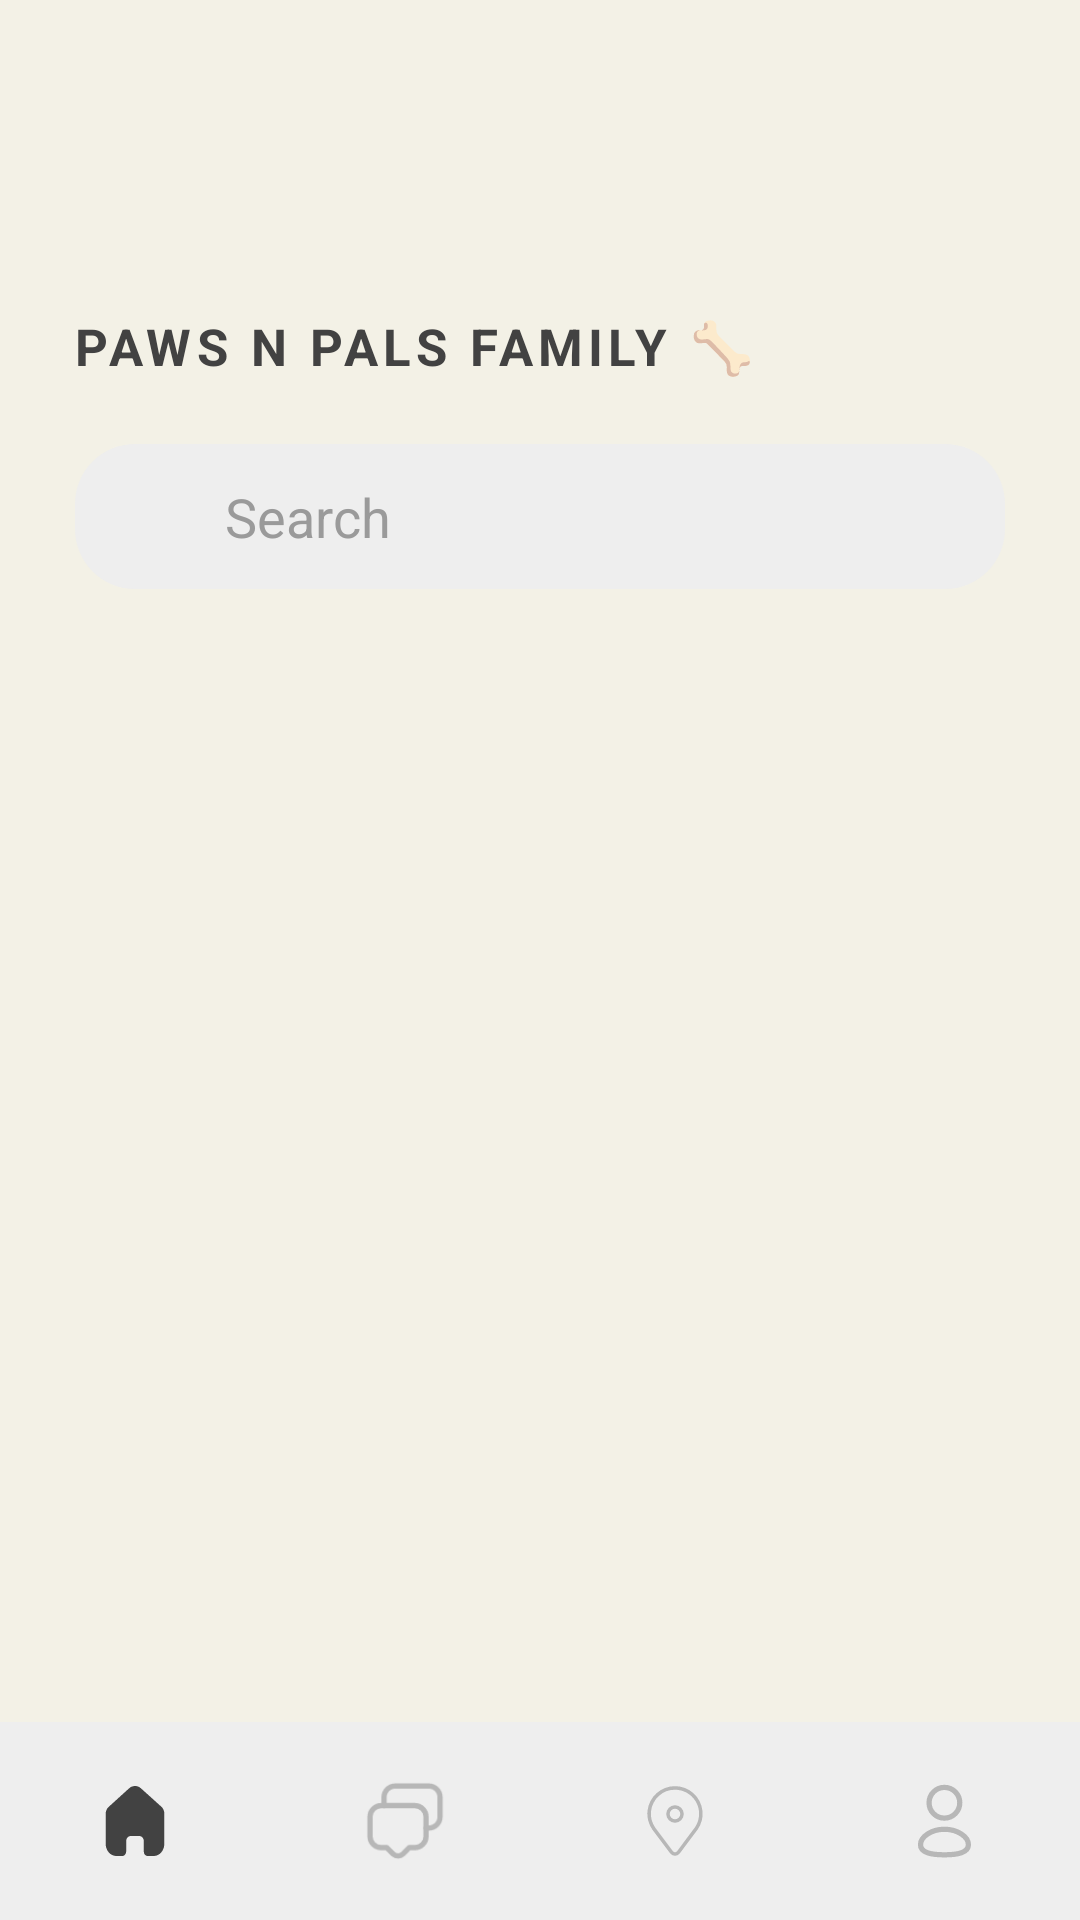

Icons on this 1080w x 1920h Android screen, each with the point to tap as [x,y]:
home: [135,1821]
loc: [675,1821]
profile: [944,1821]
